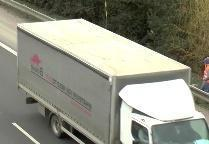truck: (17, 20, 207, 143)
